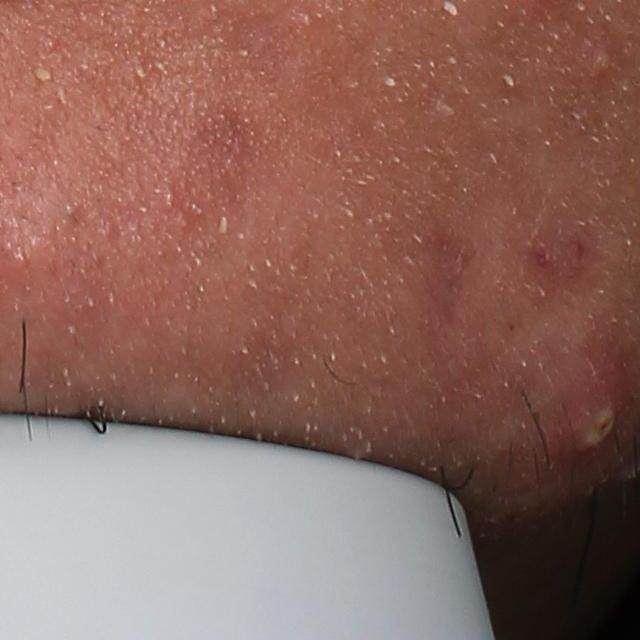other: (31, 65, 54, 84), (381, 73, 400, 88)
pustule: (588, 40, 617, 82)
